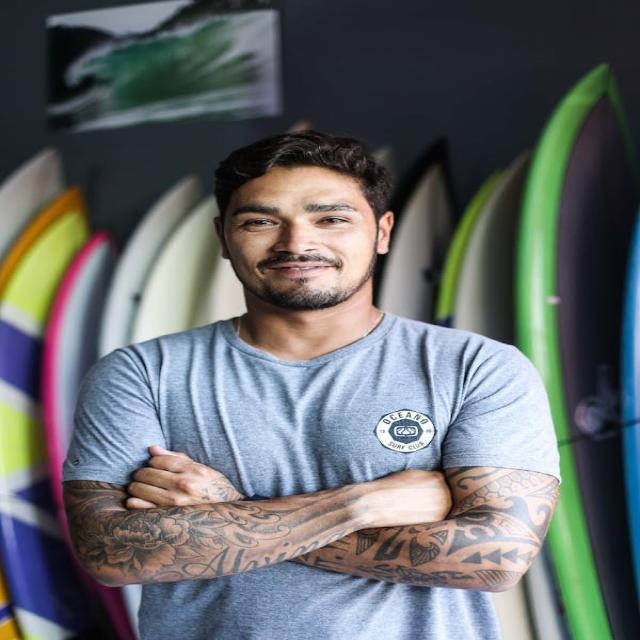Real human 2: (52, 121, 577, 640)
